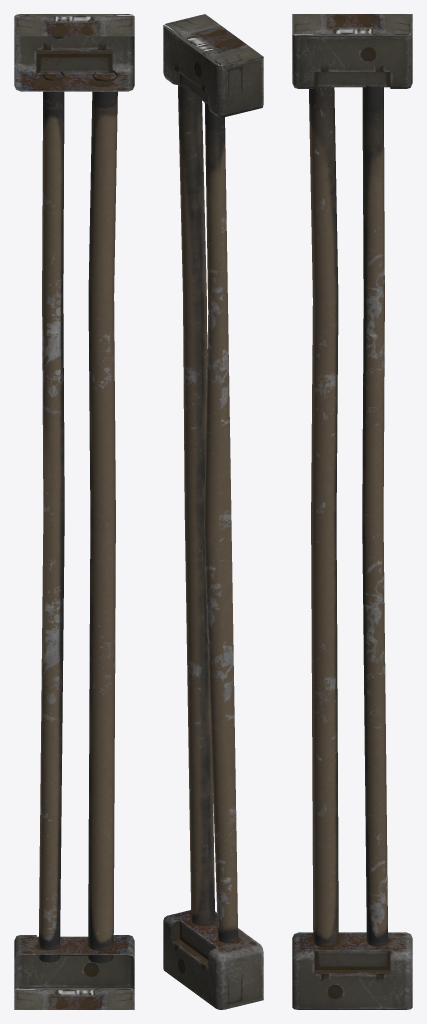
File: SM_Electricbox_09_LOD0.glb
The picture shows the model from 3 angles, left to right: view 1: azimuth 90°, elevation 25°; view 2: azimuth 210°, elevation 25°; view 3: azimuth 270°, elevation 25°; orthographic projection. The views are drawn at different scales.
Visible parts, largest first — view 1: SM_Electricbox_09_LOD0; view 2: SM_Electricbox_09_LOD0; view 3: SM_Electricbox_09_LOD0.
Part boxes in pixels (x1=…): SM_Electricbox_09_LOD0: x1=14, y1=14, x2=134, y2=1009; SM_Electricbox_09_LOD0: x1=163, y1=14, x2=263, y2=1009; SM_Electricbox_09_LOD0: x1=292, y1=14, x2=412, y2=1009.
Bounding box in the file's own units: 0.0607 × 1.23 × 0.1383.
1 material, 1 textured.
